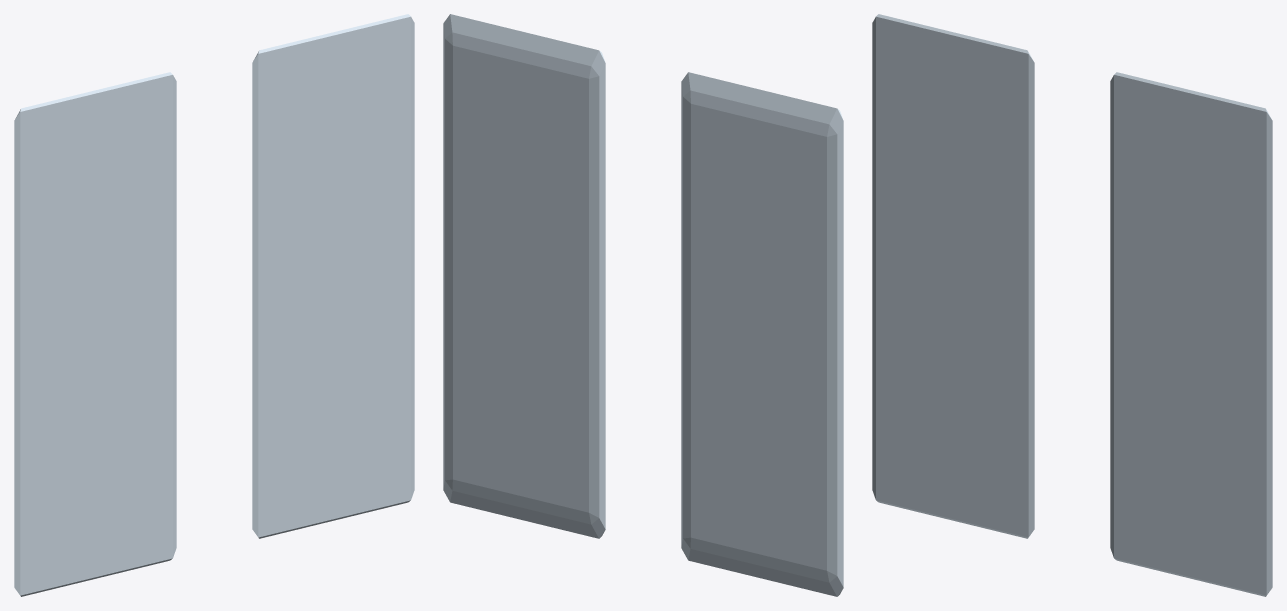
File: Play_3D_Icon.fbx
3 renders of one model, left to right at view 1: azimuth 30°, elevation 25°; view 2: azimuth 150°, elevation 25°; view 3: azimuth 330°, elevation 25°, orthographic.
Parts seen in each view (by area): view 1: Play_3D_Icon_01; view 2: Play_3D_Icon_01; view 3: Play_3D_Icon_01.
Boxes of the visible parts, x1,y1,x2,y2 form: Play_3D_Icon_01: [14, 14, 414, 596]; Play_3D_Icon_01: [443, 14, 843, 596]; Play_3D_Icon_01: [872, 14, 1272, 596].
Bounding box in the file's own units: 81.31 × 94.75 × 1.63.
